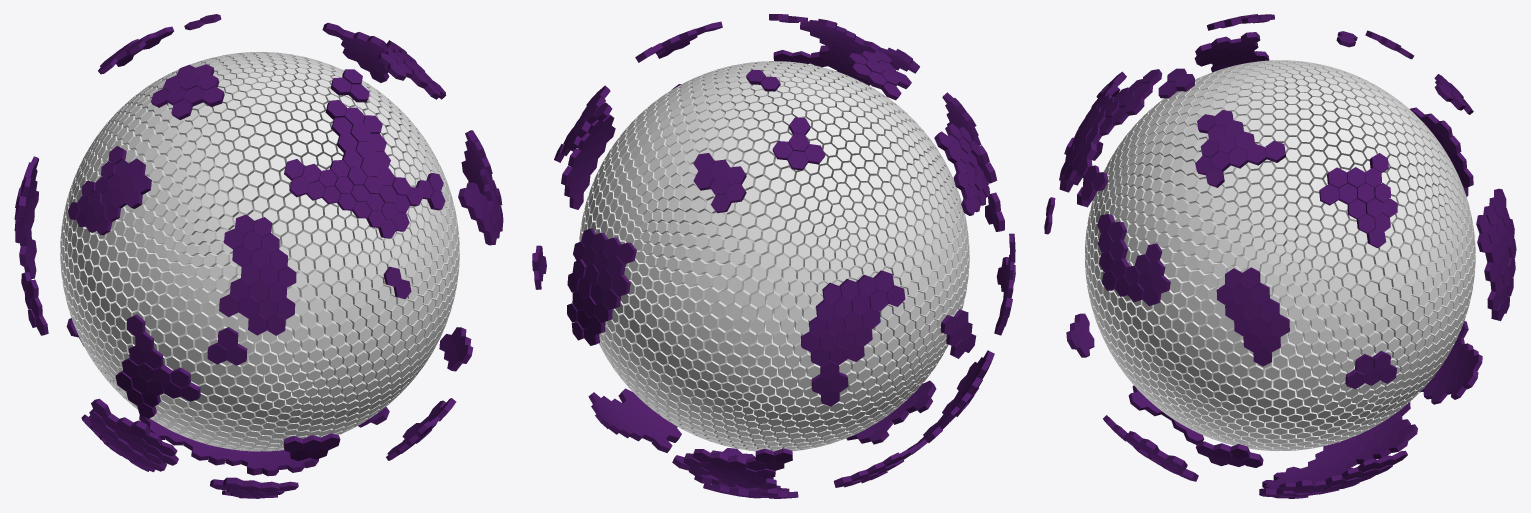
Rendered from planete_03.fbx.
The picture shows the model from 3 angles, left to right: view 1: azimuth 30°, elevation 25°; view 2: azimuth 150°, elevation 25°; view 3: azimuth 270°, elevation 25°; orthographic projection. The views are drawn at different scales.
Visible parts, largest first — view 1: Icosphere.002; view 2: Icosphere.002; view 3: Icosphere.002.
Boxes of the visible parts, x1=… form: Icosphere.002: x1=14, y1=14, x2=503, y2=498; Icosphere.002: x1=532, y1=14, x2=1015, y2=498; Icosphere.002: x1=1044, y1=14, x2=1516, y2=498.
Size of the model in its own units: 564 by 558 by 553.
